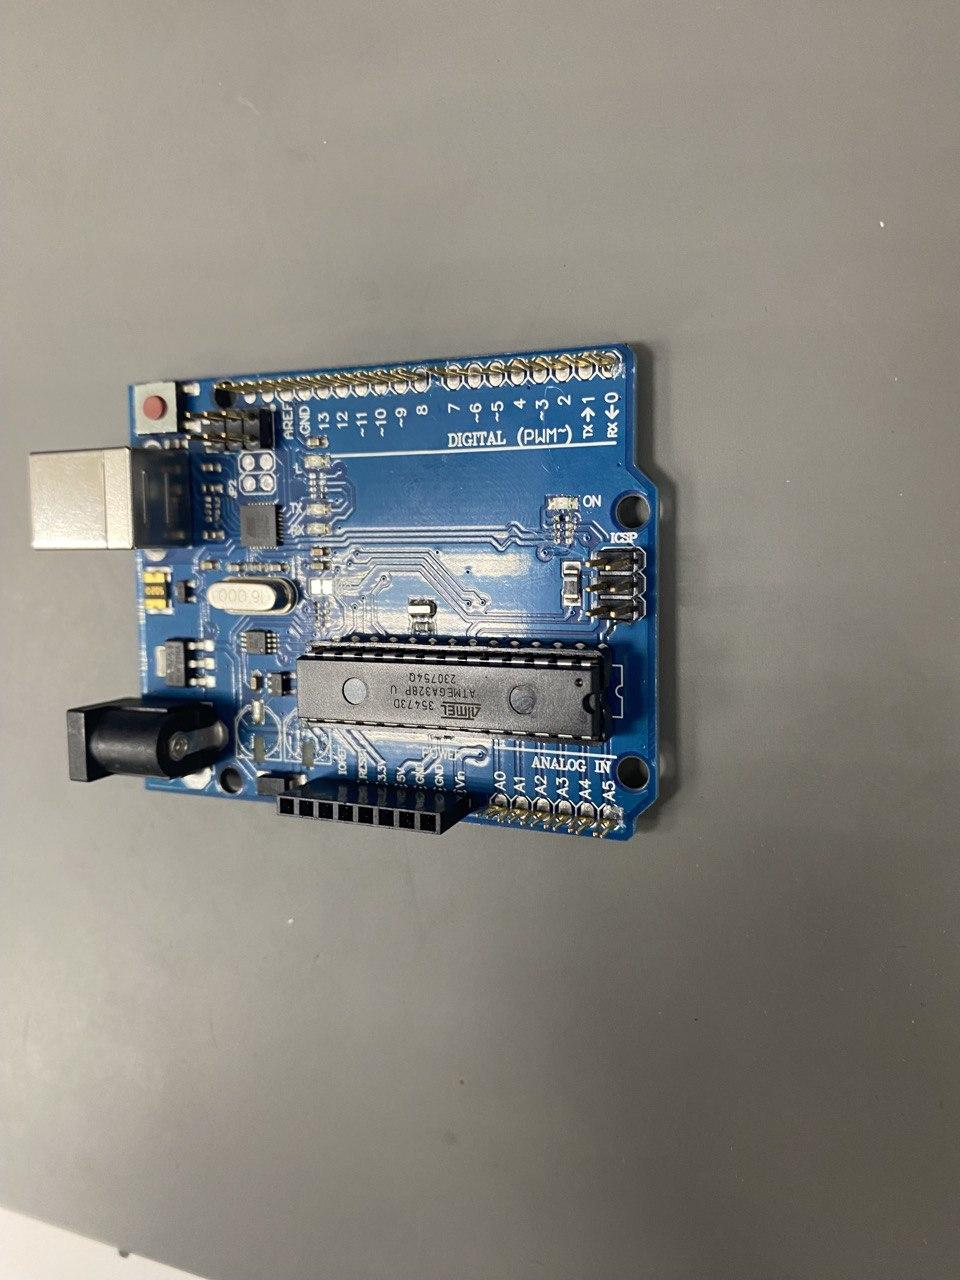ATmega328 chip: (296, 639, 611, 748)
Arduino board: (27, 343, 659, 844)
USB: (27, 446, 193, 550)
pins: (276, 776, 474, 836)
